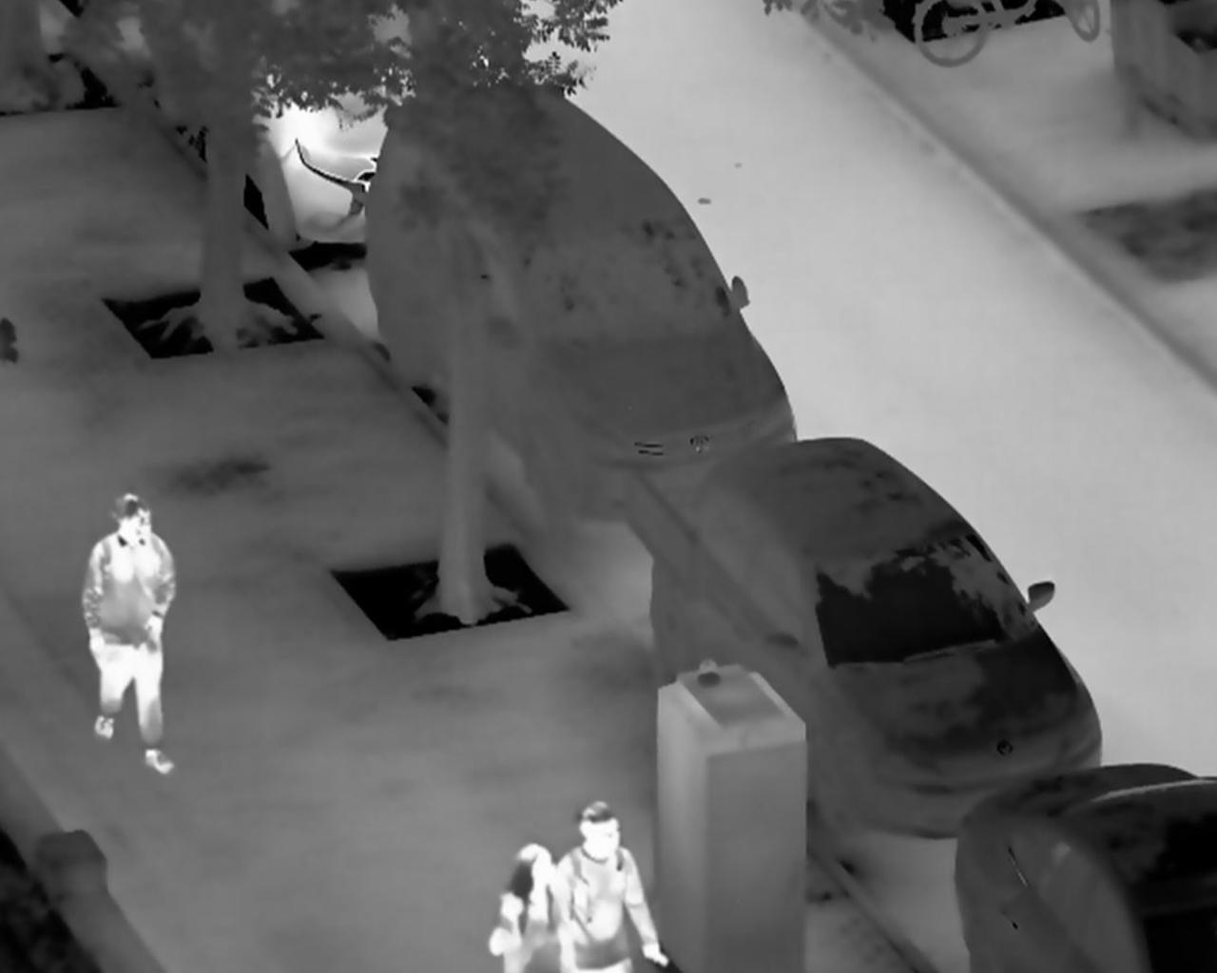person: (82, 492, 177, 775), (552, 803, 672, 973), (486, 841, 578, 973)
